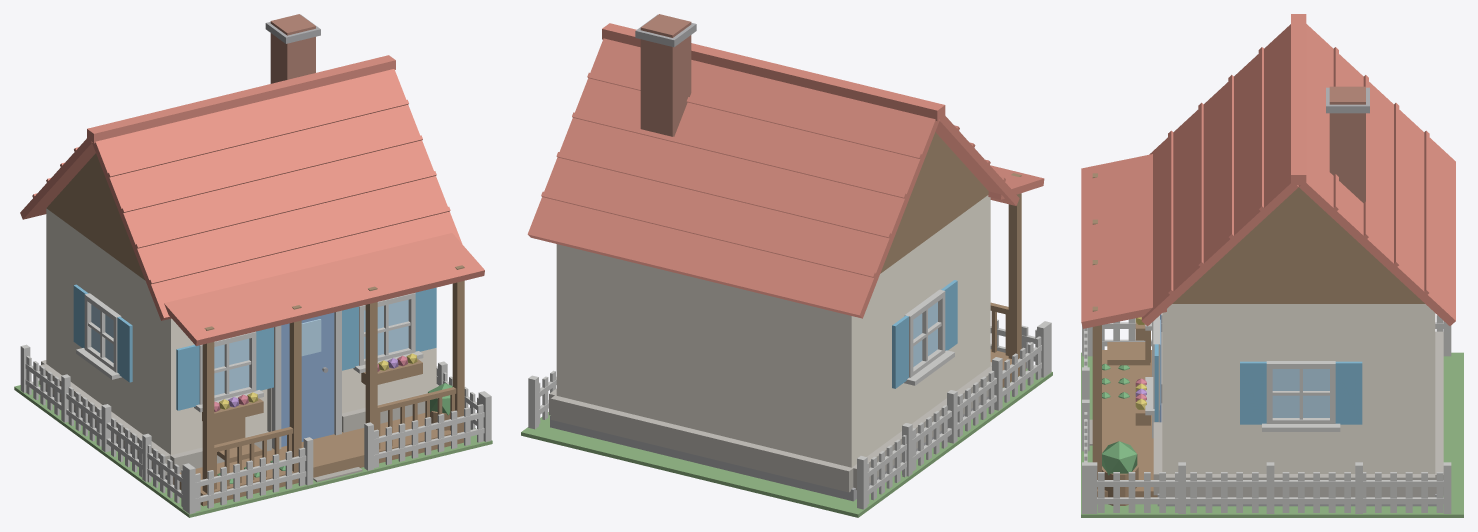
The model's file is casa_campo.glb.
The picture shows the model from 3 angles, left to right: view 1: azimuth 30°, elevation 25°; view 2: azimuth 150°, elevation 25°; view 3: azimuth 270°, elevation 25°; orthographic projection. The views are drawn at different scales.
Visible parts, largest first — view 1: Techo, Base, Pared_del_fachada, Techo_porche, Valla, Detalle_valla, Techo_Detalle, Pared_del, Detalle; view 2: Base, Techo, Techo_Detalle, Valla, Detalle_valla, Detalle, Techo_porche; view 3: Techo, Base, Techo_porche, Valla, Techo_Detalle, Detalle_valla, Detalle, Pared_del_fachada.
Boxes of the visible parts, x1=… form: Techo: x1=20, y1=14, x2=462, y2=320; Base: x1=14, y1=208, x2=492, y2=517; Pared_del_fachada: x1=170, y1=287, x2=436, y2=472; Techo_porche: x1=164, y1=233, x2=484, y2=345; Valla: x1=20, y1=344, x2=491, y2=514; Detalle_valla: x1=26, y1=356, x2=483, y2=511; Techo_Detalle: x1=32, y1=99, x2=450, y2=284; Pared_del: x1=271, y1=310, x2=341, y2=449; Detalle: x1=73, y1=284, x2=454, y2=489; Base: x1=521, y1=173, x2=1052, y2=517; Techo: x1=527, y1=14, x2=1019, y2=318; Techo_Detalle: x1=541, y1=72, x2=1005, y2=277; Valla: x1=528, y1=321, x2=1051, y2=509; Detalle_valla: x1=539, y1=319, x2=1041, y2=504; Detalle: x1=892, y1=280, x2=1008, y2=388; Techo_porche: x1=988, y1=165, x2=1044, y2=199; Techo: x1=1141, y1=14, x2=1455, y2=326; Base: x1=1081, y1=173, x2=1463, y2=517; Techo_porche: x1=1081, y1=154, x2=1166, y2=328; Valla: x1=1082, y1=321, x2=1451, y2=513; Techo_Detalle: x1=1168, y1=47, x2=1429, y2=294; Detalle_valla: x1=1084, y1=314, x2=1443, y2=512; Detalle: x1=1102, y1=340, x2=1362, y2=424; Pared_del_fachada: x1=1135, y1=315, x2=1168, y2=495.
Size of the model in its own units: 4 by 4.41 by 4.
